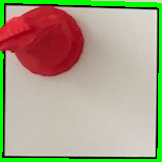Red Knight: (1, 4, 87, 81)
